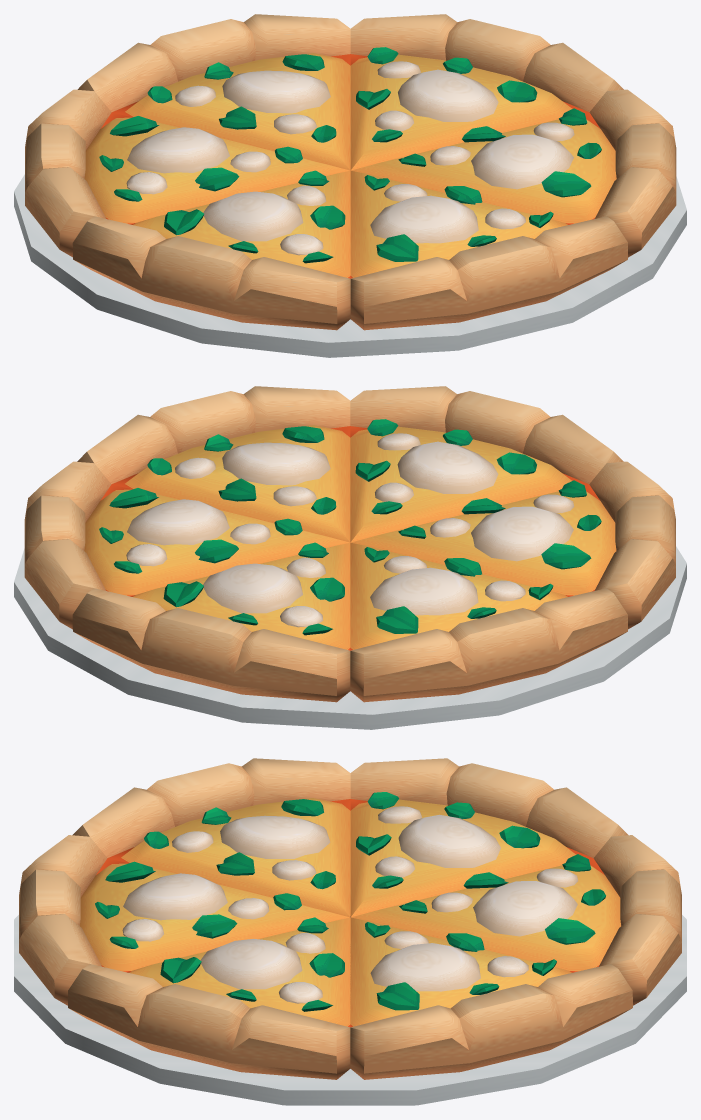
File: food_pizza_cheese_plated.gltf
3 views of the same model, one above another, from view 1: azimuth 30°, elevation 25°; view 2: azimuth 150°, elevation 25°; view 3: azimuth 270°, elevation 25° (orthographic).
Visible parts, largest first — view 1: food_pizza_cheese_plated; view 2: food_pizza_cheese_plated; view 3: food_pizza_cheese_plated.
Boxes of the visible parts, x1,y1,x2,y2 form: food_pizza_cheese_plated: (14,14,686,357); food_pizza_cheese_plated: (14,386,686,729); food_pizza_cheese_plated: (14,758,686,1105).
Size of the model in its own units: 2 by 0.3 by 2.
1 material, 1 textured.
